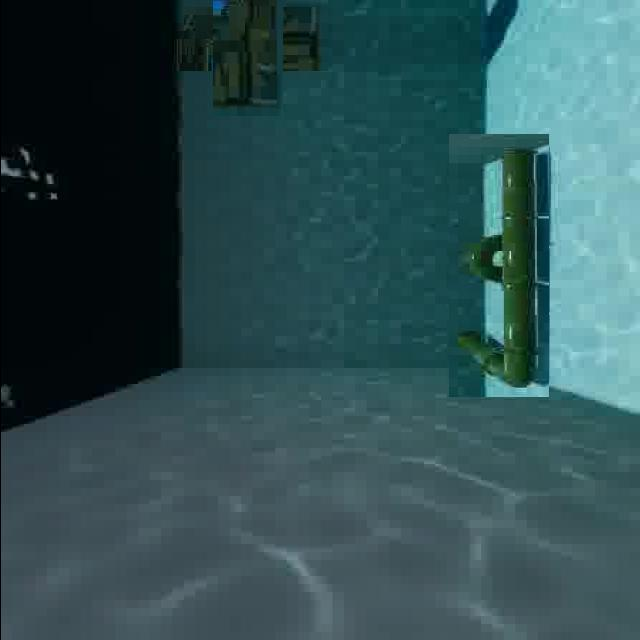Control Panel: (188, 0, 304, 93)
Pipe: (448, 134, 548, 397)
